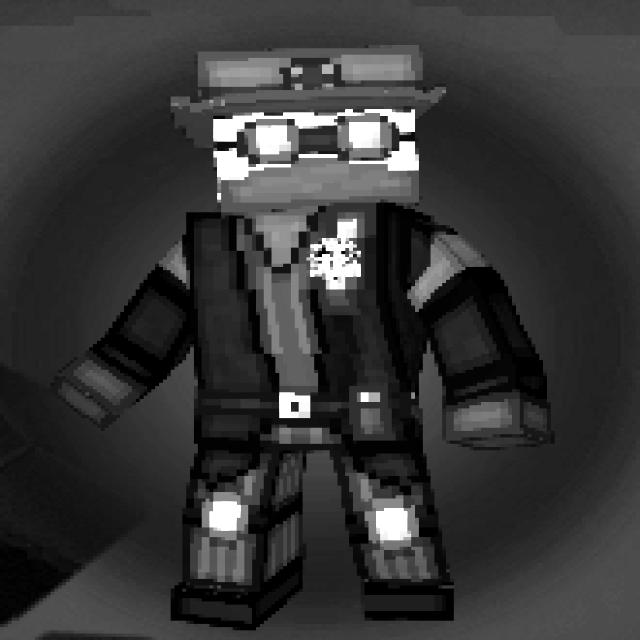Head: (167, 47, 450, 208)
Player: (44, 47, 558, 633)
